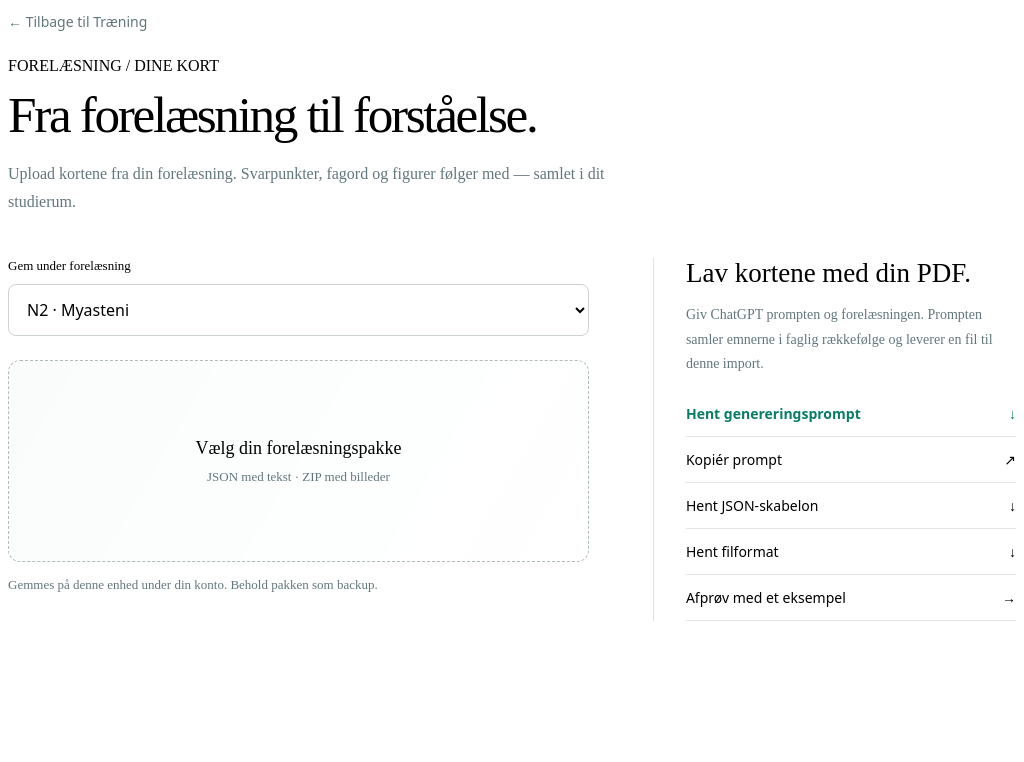
Scenario: a failed package save never restores discarded cards or reports a successful import
Click the button "Afprøv med et eksempel →". click: (766, 597)
box: [686, 574, 1016, 620]
(page scrolled)
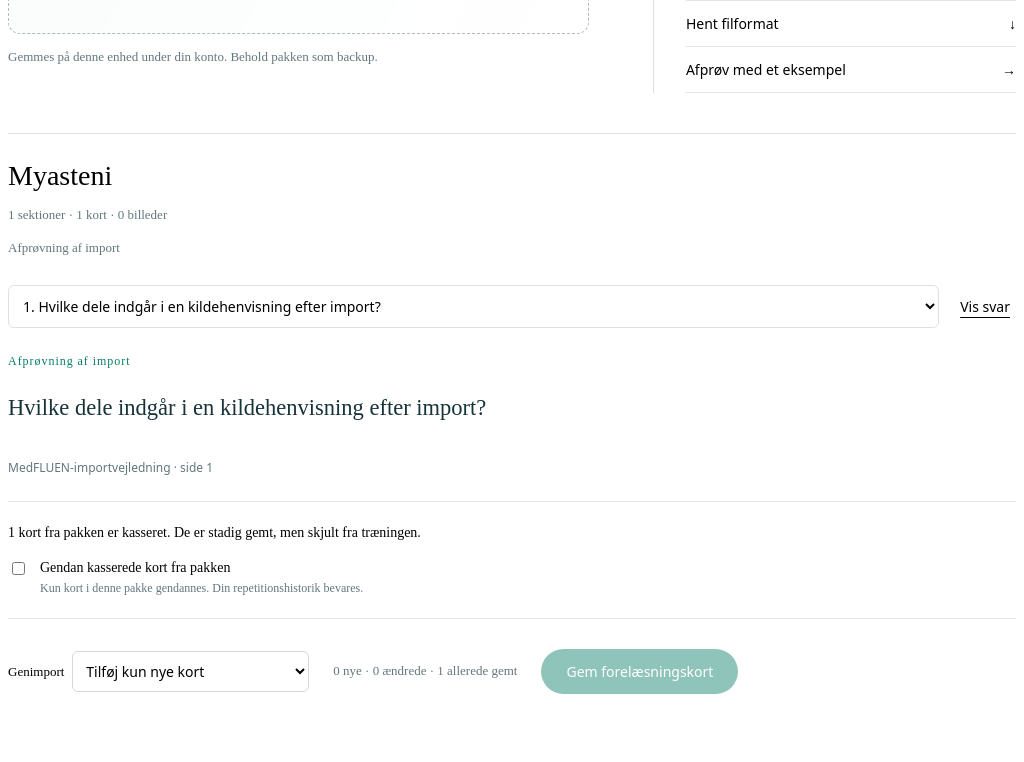
Click the checkbox named "Gendan kasserede kort fra pakken". click: (18, 568)
box: [12, 562, 25, 575]
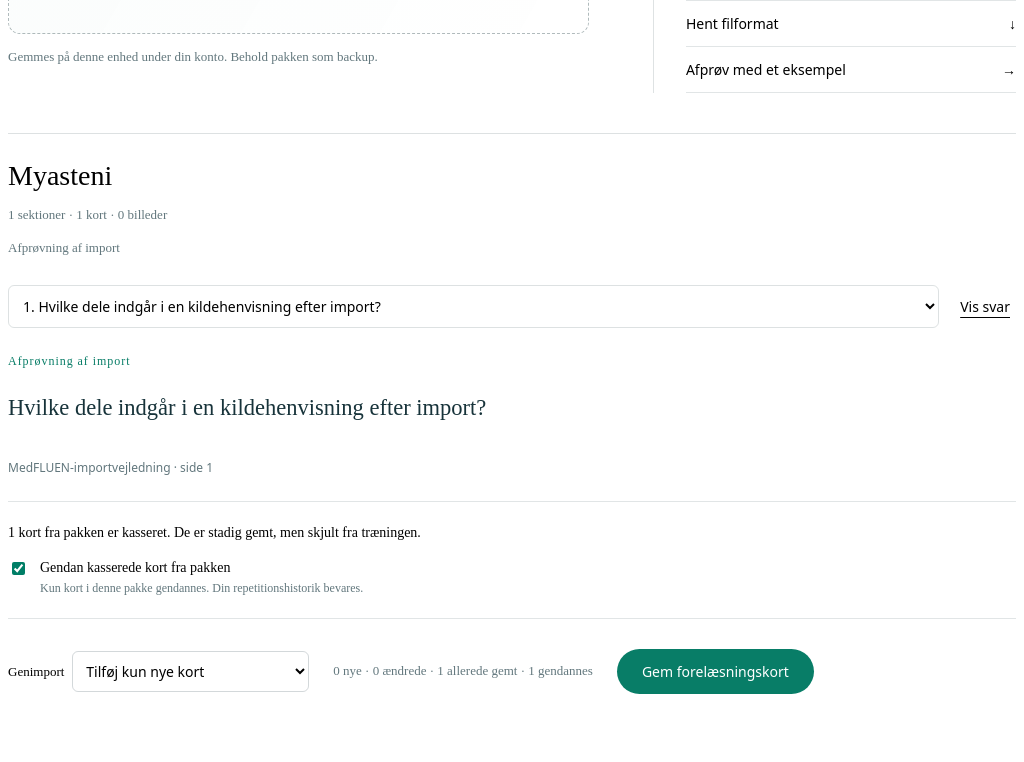
Click the button "Gem forelæsningskort". click: (715, 672)
box: [617, 649, 814, 694]
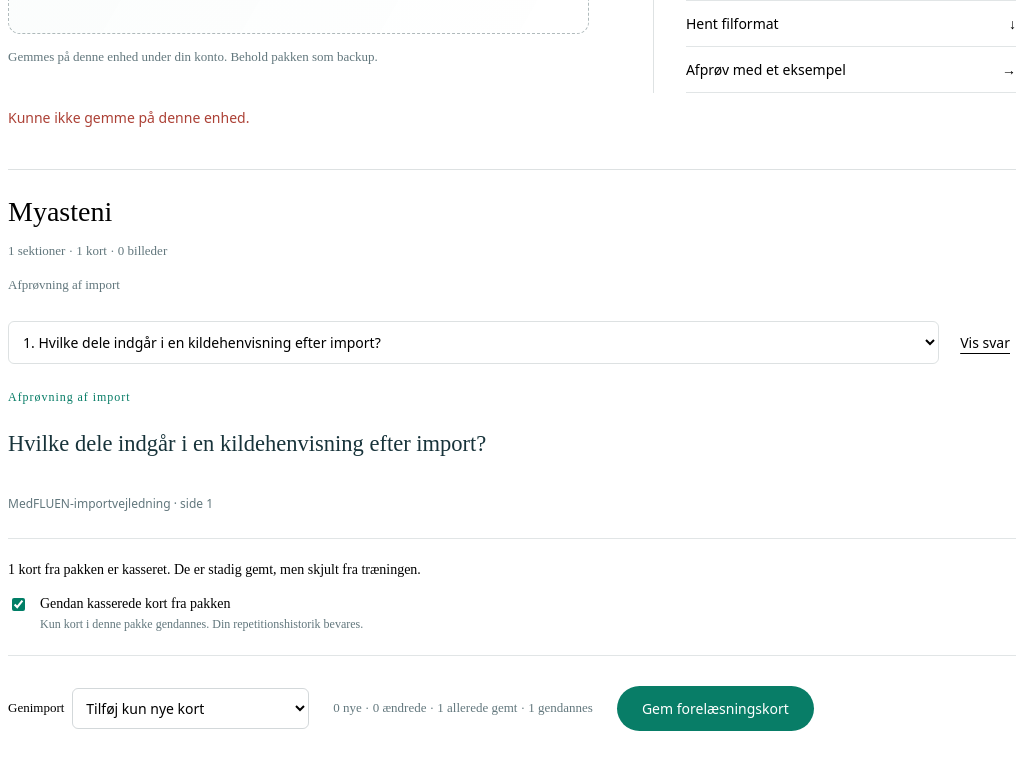
expect the button "Gem forelæsningskort" is enabled: met, box [617, 686, 814, 731]
expect the message "Kunne ikke gemme på denne enhed." is shown: met, box [8, 108, 249, 126]
